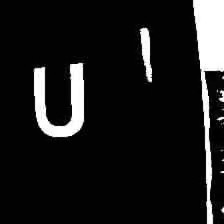LTR_U: (23, 60, 93, 144)
